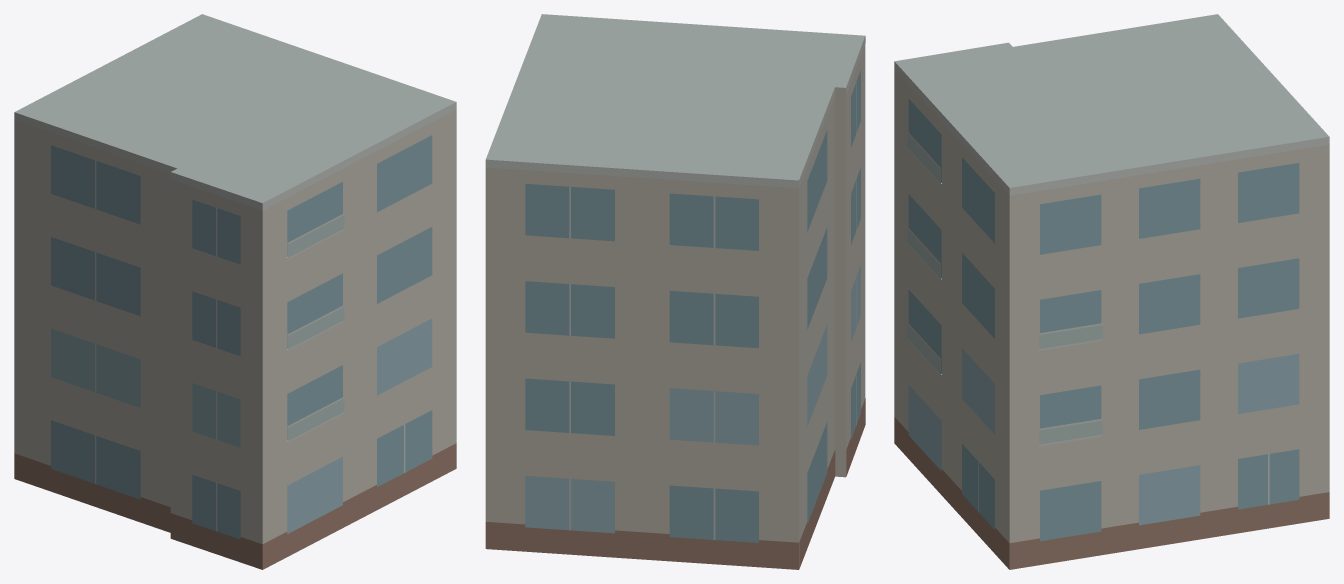
The model's file is survey-upis-32954128.glb.
The picture shows the model from 3 angles, left to right: view 1: azimuth 30°, elevation 25°; view 2: azimuth 150°, elevation 25°; view 3: azimuth 270°, elevation 25°; orthographic projection. The views are drawn at different scales.
Parts seen in each view (by area): view 1: survey-upis-32954128.tmp; view 2: survey-upis-32954128.tmp; view 3: survey-upis-32954128.tmp.
Part boxes in pixels (left/top/right/bottom): survey-upis-32954128.tmp: left=14, top=14, right=456, bottom=569; survey-upis-32954128.tmp: left=485, top=14, right=865, bottom=569; survey-upis-32954128.tmp: left=894, top=14, right=1329, bottom=569.
Size of the model in its own units: 11.68 by 11.95 by 12.35.
